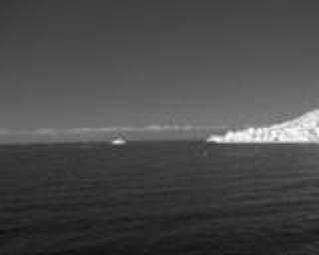Target: (113, 140, 125, 144)
